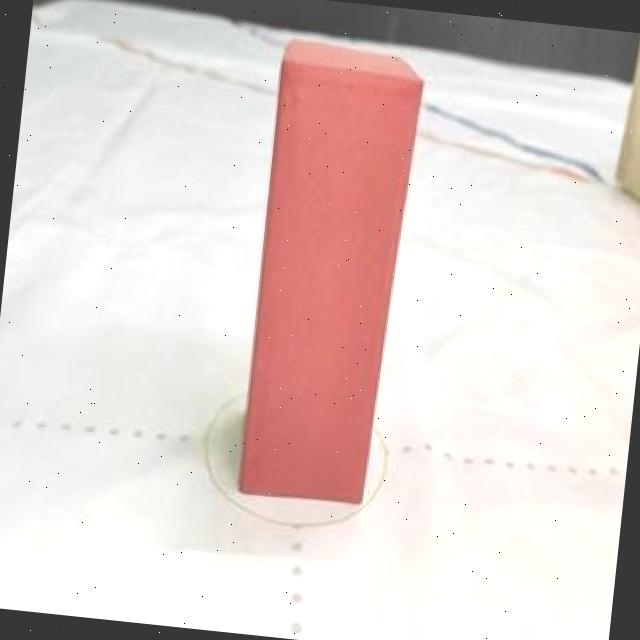redbox: (233, 33, 427, 504)
